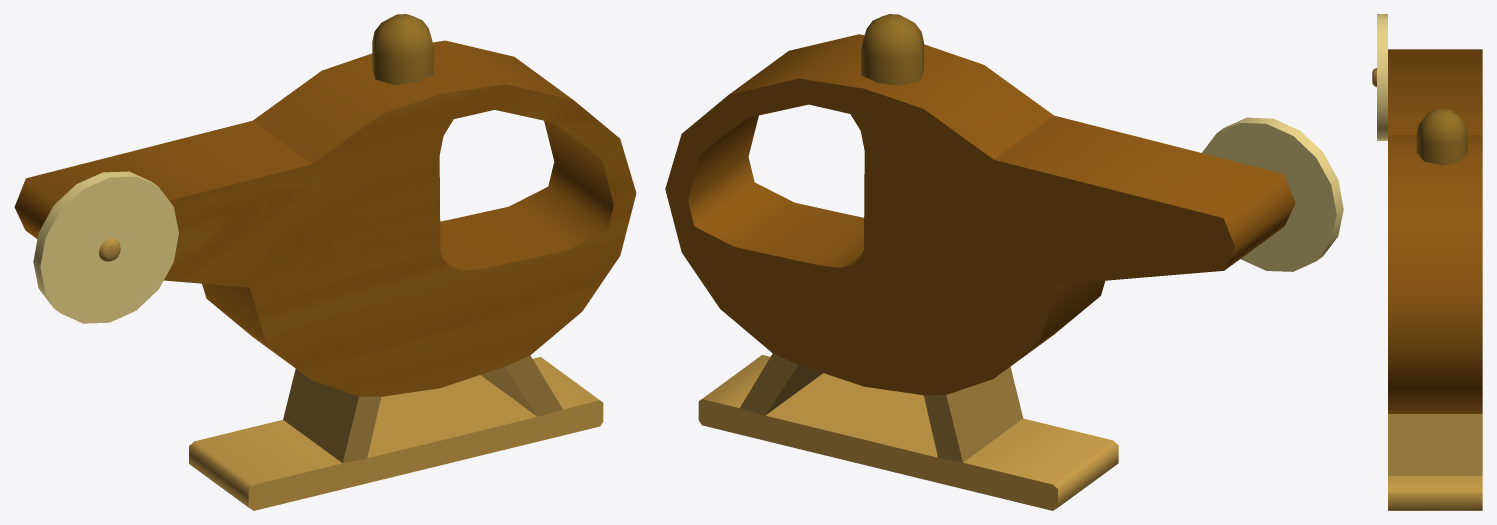
Rendered from D_FBX_11_Wind_A.fbx.
3 views of the same model, side by side, from view 1: azimuth 30°, elevation 25°; view 2: azimuth 150°, elevation 25°; view 3: azimuth 270°, elevation 25° (orthographic). The views are drawn at different scales.
Parts seen in each view (by area): view 1: D_FBX_11_Wind_A; view 2: D_FBX_11_Wind_A; view 3: D_FBX_11_Wind_A.
Boxes of the visible parts, <box> form: D_FBX_11_Wind_A: <box>14,14,636,510</box>; D_FBX_11_Wind_A: <box>665,14,1343,510</box>; D_FBX_11_Wind_A: <box>1372,14,1482,510</box>.
Size of the model in its own units: 2.83 by 1.9 by 0.5633.
